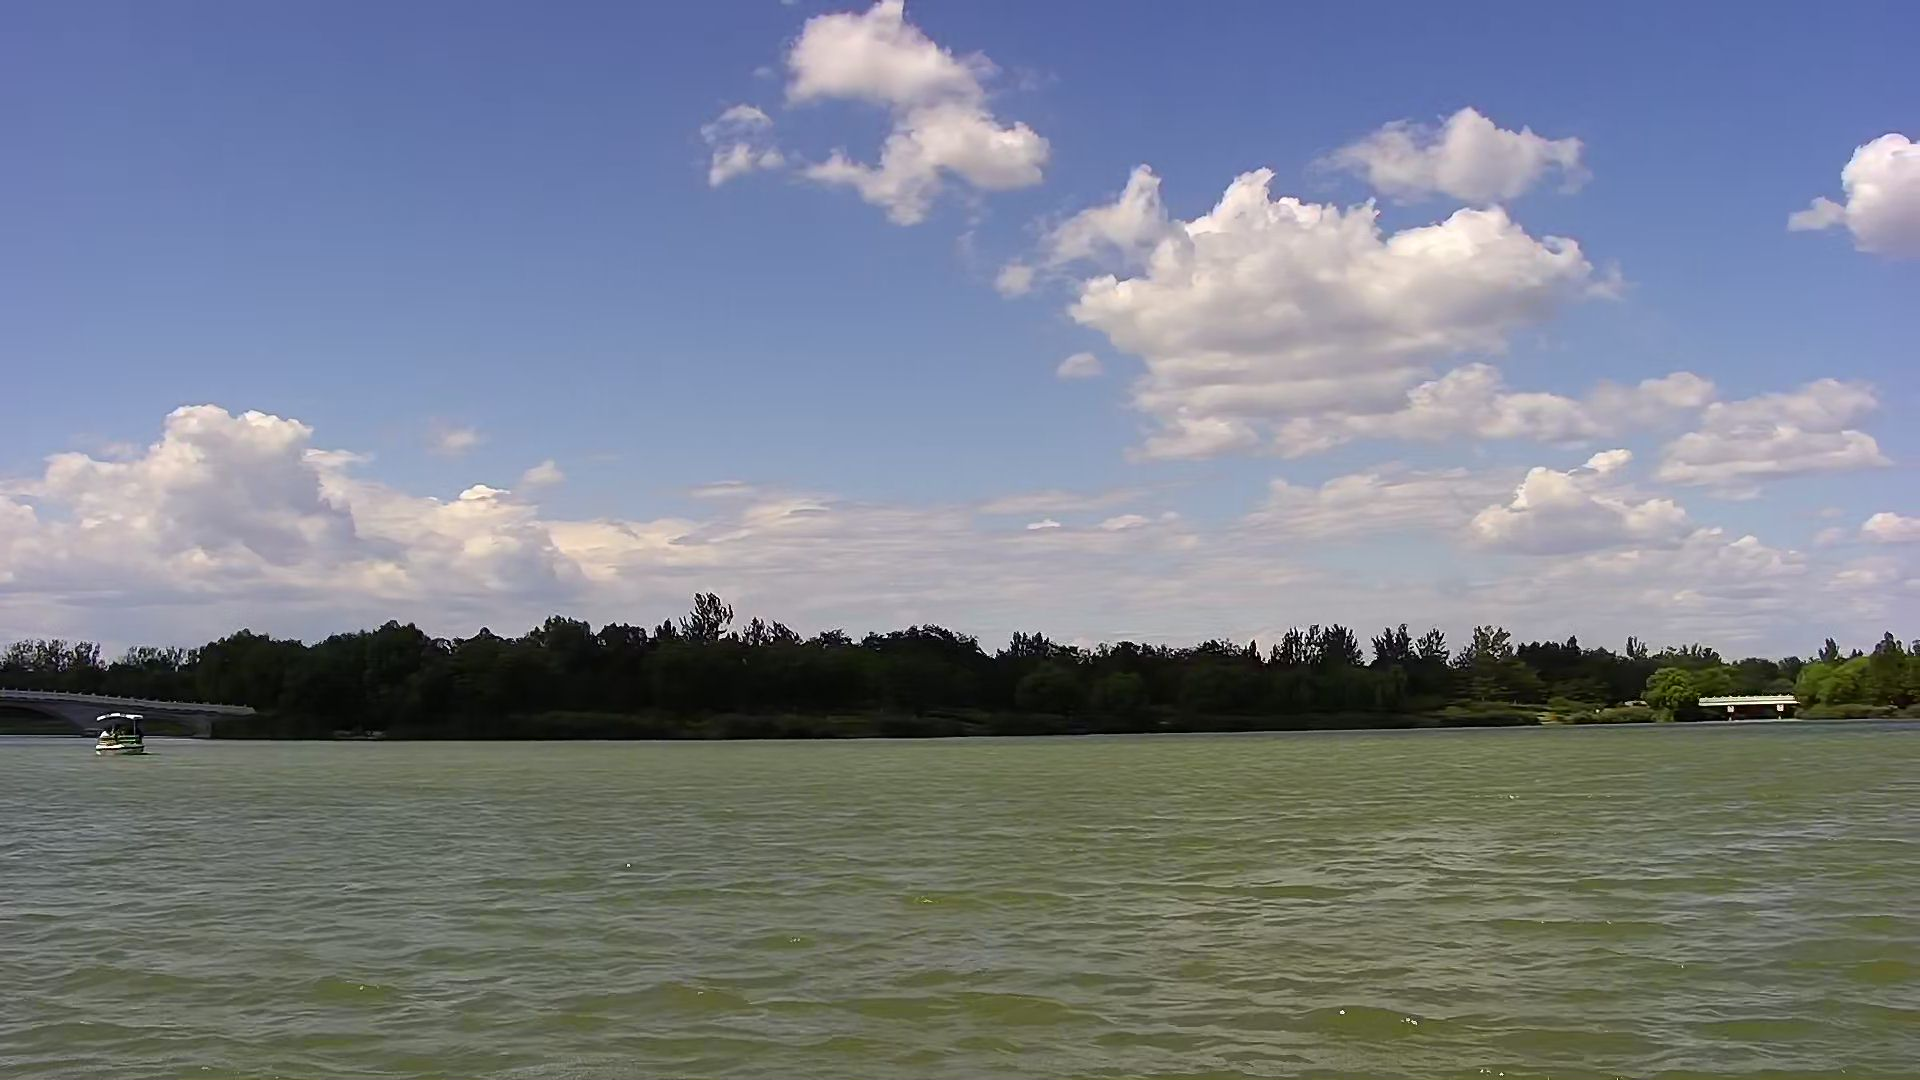boat: (90, 705, 154, 760)
bridge: (1, 682, 247, 735), (1696, 688, 1805, 727)
